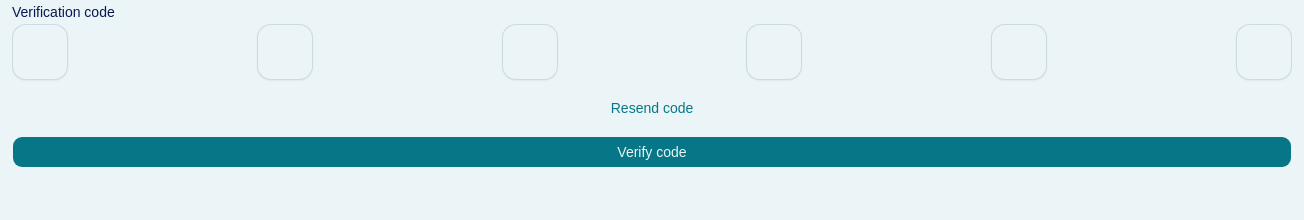
VerifyResetOtpForm › shows resend error when resending the code fails
The width and height of the screenshot is (1304, 220).
Click the button "Resend code".
click(652, 108)  # box [611, 98, 693, 118]
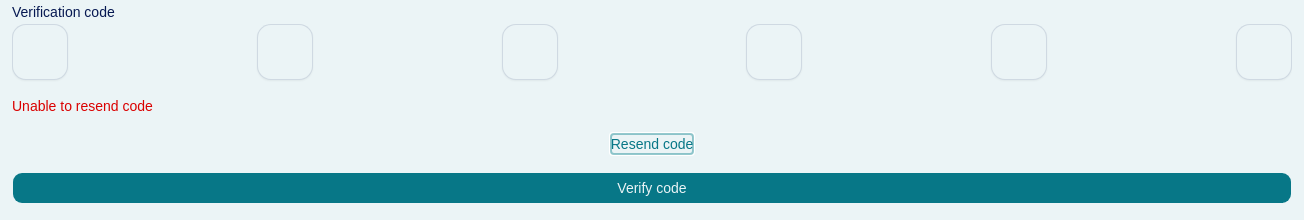
Expected: the text "Unable to resend code" is shown, [12, 98, 153, 114]
